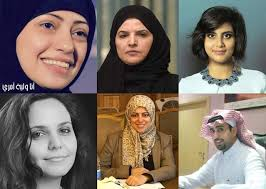middle_eastern_Female: (14, 6, 92, 89), (18, 100, 81, 171), (114, 14, 153, 63), (201, 19, 236, 65)
